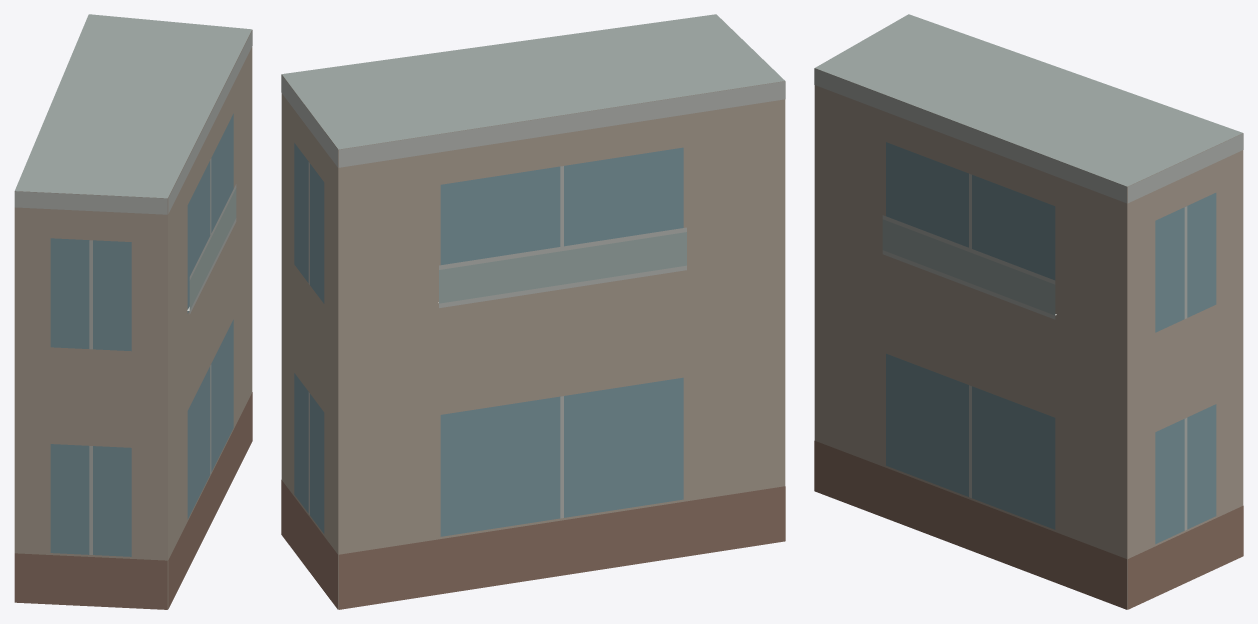
File: survey-upis-32485314.glb
3 renders of one model, left to right at view 1: azimuth 30°, elevation 25°; view 2: azimuth 150°, elevation 25°; view 3: azimuth 270°, elevation 25°, orthographic. The views are drawn at different scales.
Visible parts, largest first — view 1: survey-upis-32485314.tmp; view 2: survey-upis-32485314.tmp; view 3: survey-upis-32485314.tmp.
Part boxes in pixels (x1,y1,x2,y2): survey-upis-32485314.tmp: (14,14,252,609); survey-upis-32485314.tmp: (281,14,785,609); survey-upis-32485314.tmp: (814,14,1243,609).
Size of the model in its own units: 5.35 by 6.1 by 5.61.
